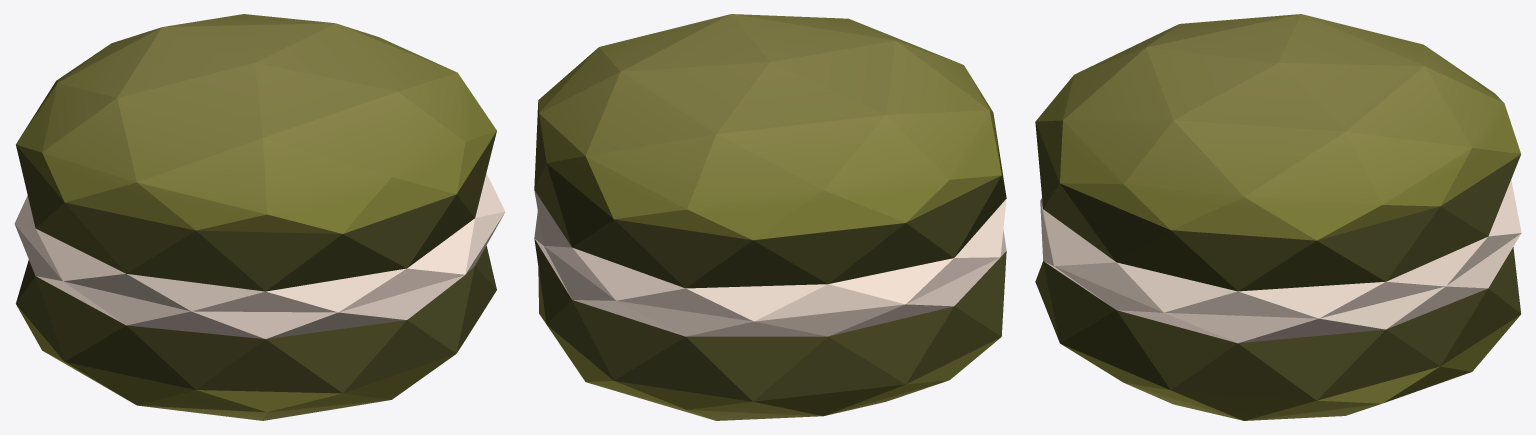
Rendered from macaronC.FBX.
3 renders of one model, left to right at view 1: azimuth 30°, elevation 25°; view 2: azimuth 150°, elevation 25°; view 3: azimuth 270°, elevation 25°, orthographic.
Parts seen in each view (by area): view 1: macaronC; view 2: macaronC; view 3: macaronC.
Part boxes in pixels (<box>): macaronC: <box>14,14,505,420</box>; macaronC: <box>534,14,1006,420</box>; macaronC: <box>1035,14,1521,420</box>.
Size of the model in its own units: 1.5 by 1.05 by 1.5.
